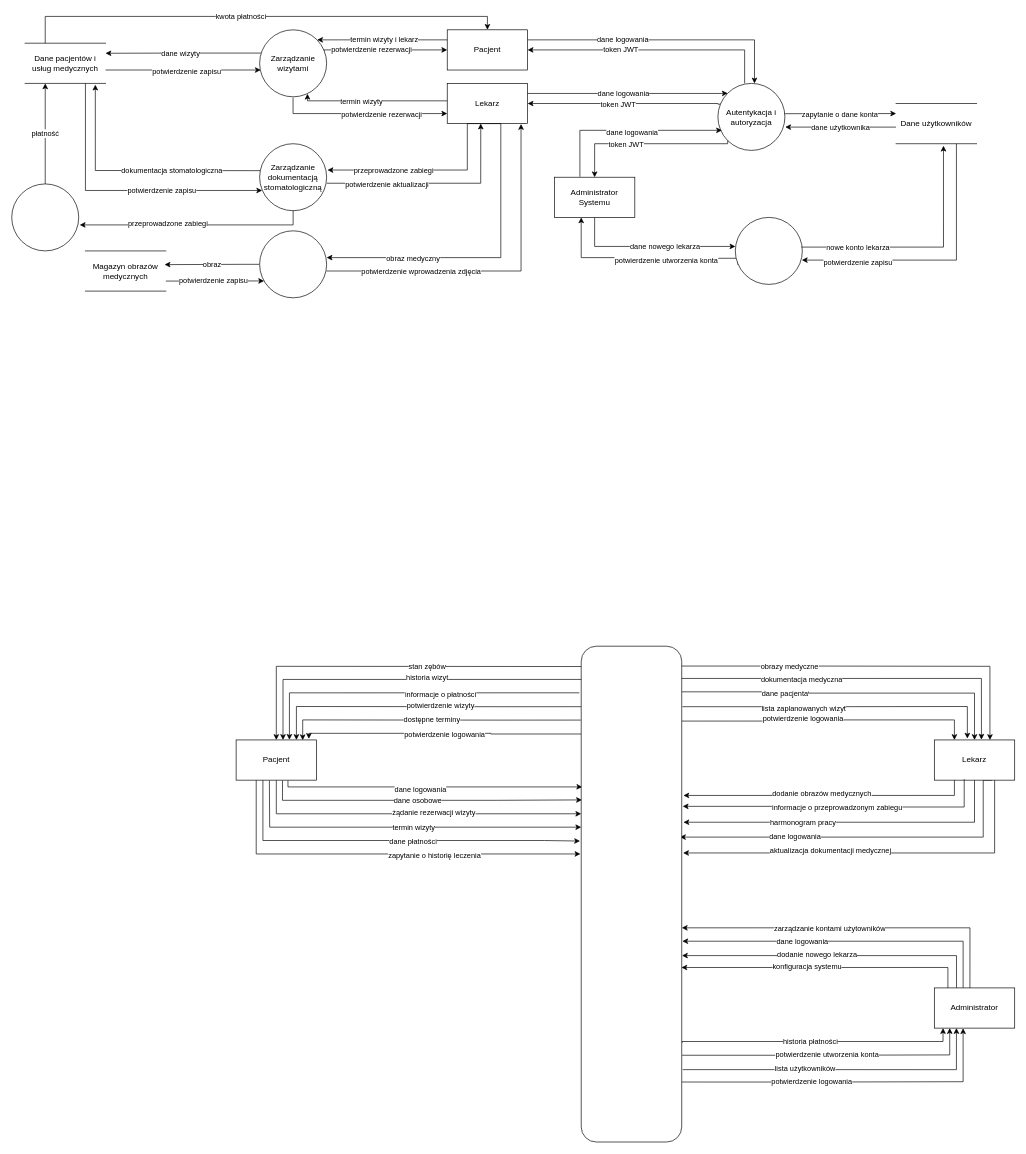
This 1026x1154 diagram has some shape labels left out. The box of each missing label's shape, as (x1, y1, x2, y2) in pixels:
System DentistPlus: (581, 646, 682, 1142)
Zarządzanie obrazmi medycznymi: (259, 230, 327, 298)
Zarządzanie płatnościami: (11, 183, 79, 251)
Zarządzanie użytkownikami: (735, 217, 802, 284)
